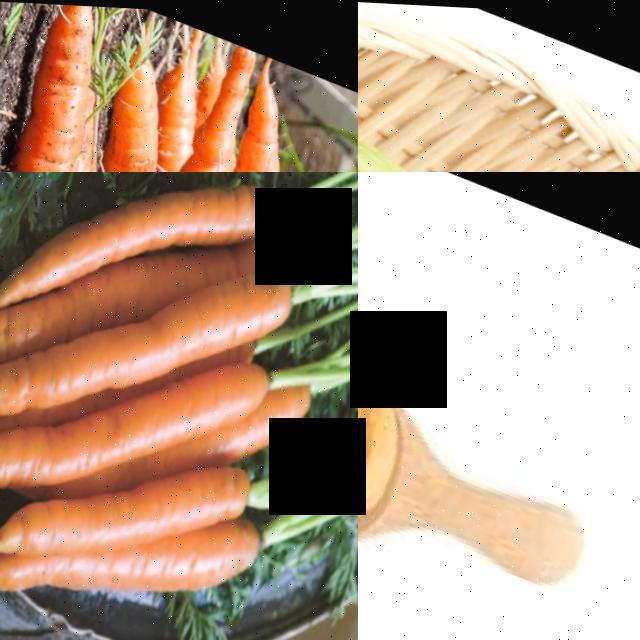carrot: (40, 201, 289, 393), (38, 398, 264, 556), (42, 335, 255, 484), (0, 172, 263, 280), (58, 512, 251, 620), (0, 0, 119, 172), (88, 57, 197, 172), (158, 62, 264, 172), (194, 99, 326, 172)
cashew: (358, 354, 435, 563)
chayote: (358, 60, 640, 172)
